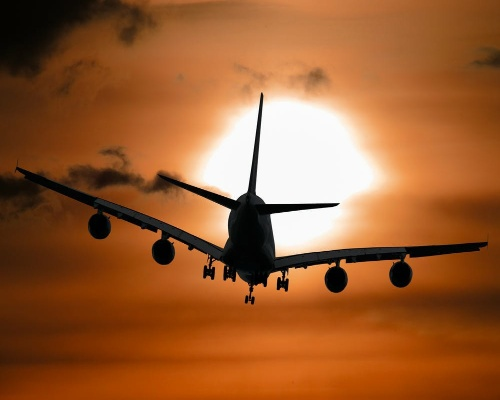plane: (16, 86, 491, 313)
